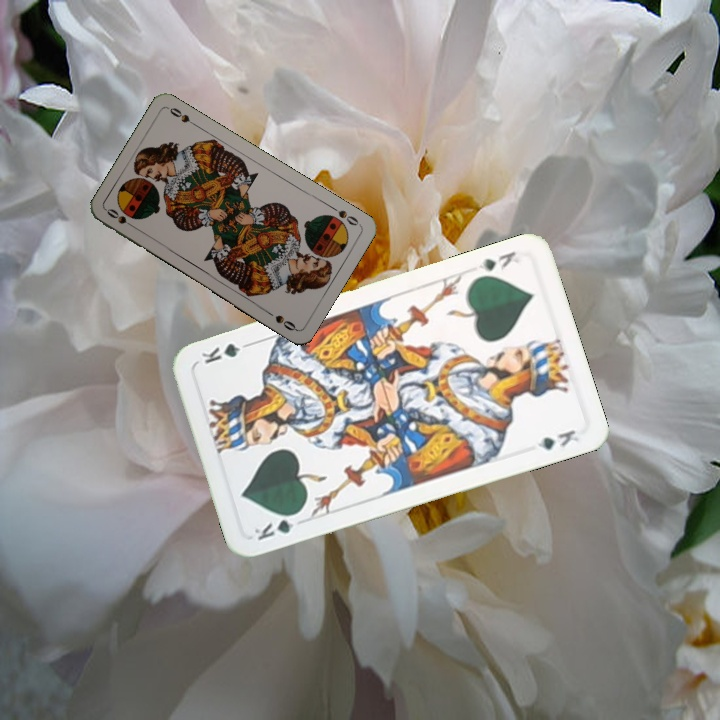GK: (250, 508, 304, 543), (474, 247, 522, 274)
SO: (103, 204, 139, 232), (326, 202, 363, 228)
